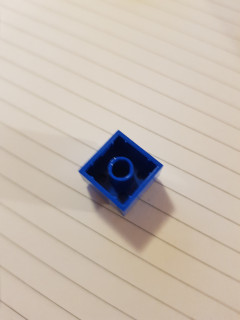2x2 blue: (76, 128, 165, 218)
